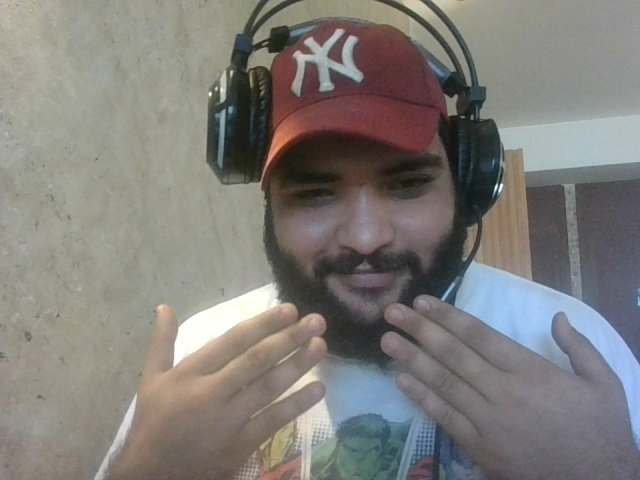thanks: (119, 295, 631, 471)
